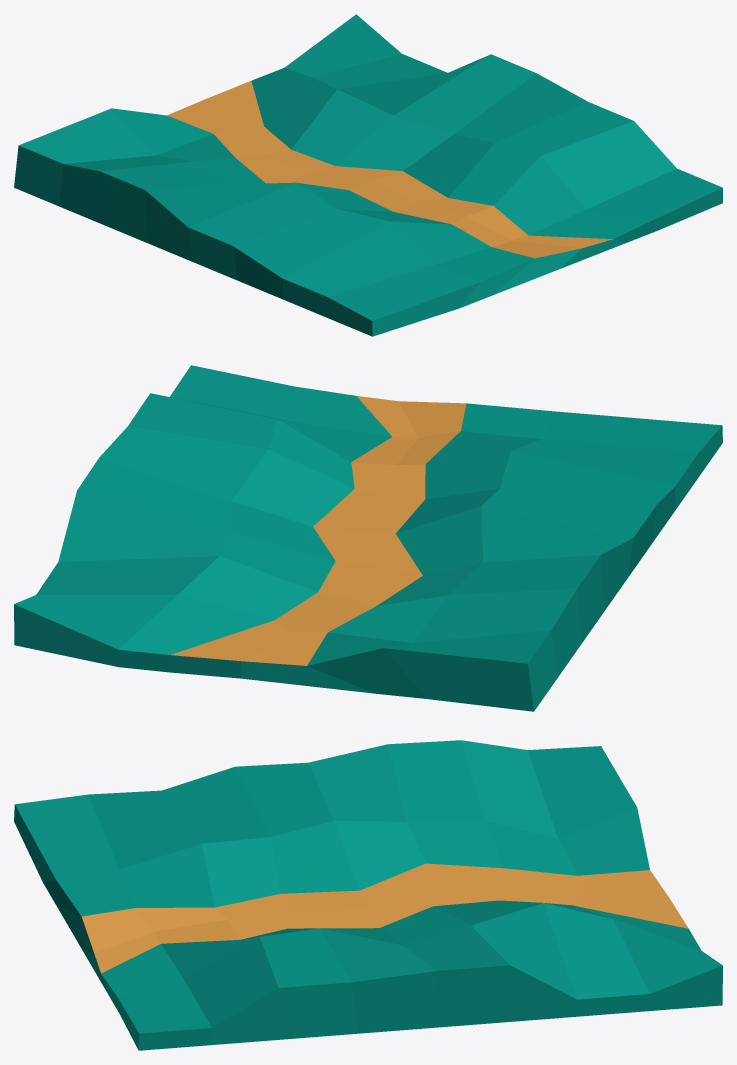
Rendered from Woods Ground.glb.
The picture shows the model from 3 angles, top to bottom: view 1: azimuth 30°, elevation 25°; view 2: azimuth 150°, elevation 25°; view 3: azimuth 270°, elevation 25°; orthographic projection. The views are drawn at different scales.
Visible parts, largest first — view 1: mesh2009401224, mesh2009401224_1; view 2: mesh2009401224, mesh2009401224_1; view 3: mesh2009401224, mesh2009401224_1.
Part boxes in pixels (x1,y1,x2,y2): mesh2009401224: (14, 14, 722, 336); mesh2009401224_1: (167, 81, 612, 258); mesh2009401224: (14, 365, 722, 711); mesh2009401224_1: (171, 396, 466, 665); mesh2009401224: (14, 740, 722, 1050); mesh2009401224_1: (82, 863, 688, 973).
Bounding box in the file's own units: 14 × 1.68 × 15.22.
